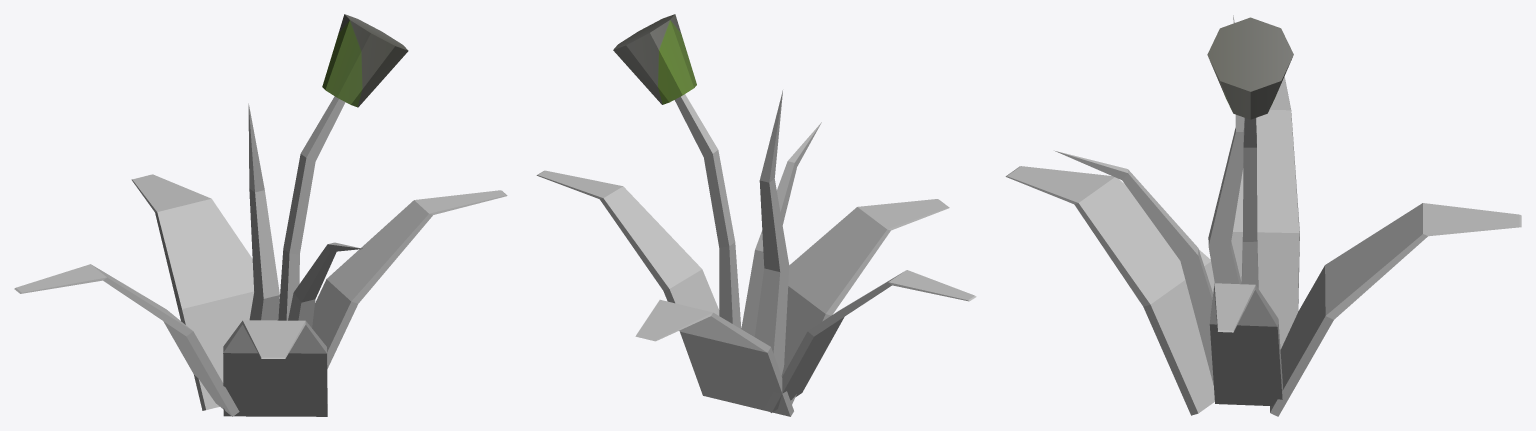
Rendered from Flower_10.fbx.
The picture shows the model from 3 angles, left to right: view 1: azimuth 30°, elevation 25°; view 2: azimuth 150°, elevation 25°; view 3: azimuth 270°, elevation 25°; orthographic projection. The views are drawn at different scales.
Parts seen in each view (by area): view 1: Flower_10; view 2: Flower_10; view 3: Flower_10.
Boxes of the visible parts, box(x1,y1,x2,y2) form: Flower_10: box(14, 14, 507, 416); Flower_10: box(536, 14, 976, 416); Flower_10: box(1005, 15, 1521, 416).
Bounding box in the file's own units: 1.34 × 1 × 1.1.
